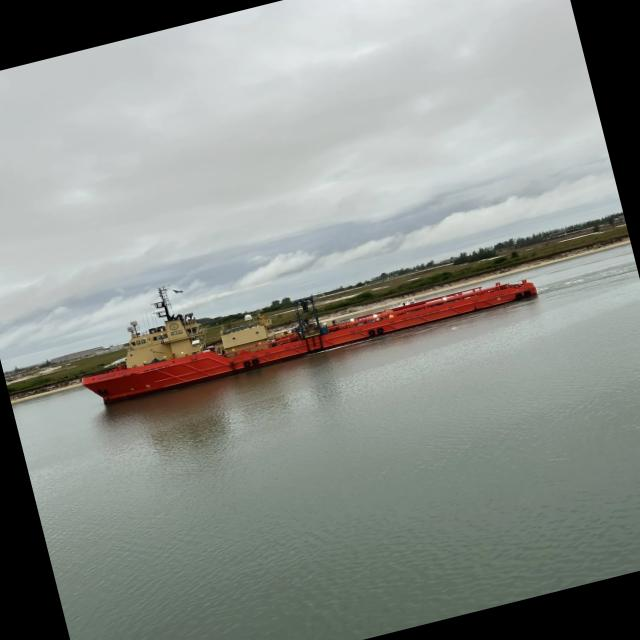Offshore: (81, 279, 536, 402)
